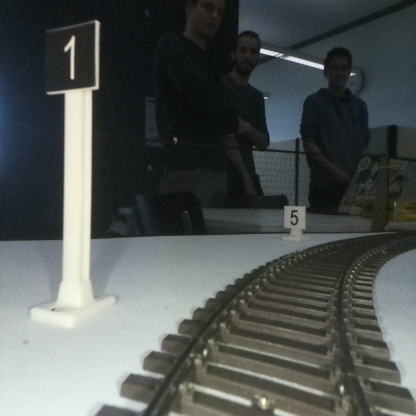black-info-1: (49, 23, 94, 320)
white-stop-5: (284, 206, 305, 238)
